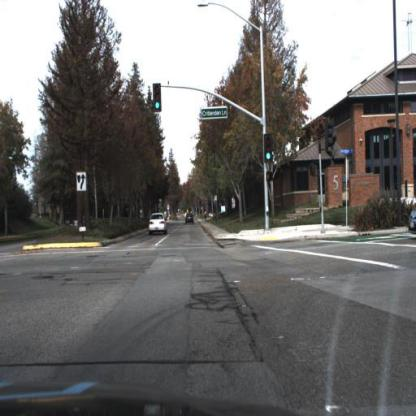biker: (204, 208, 209, 222)
car: (147, 212, 169, 238), (184, 211, 196, 227)
trafficLight-Green: (264, 134, 274, 162), (153, 82, 162, 113)
